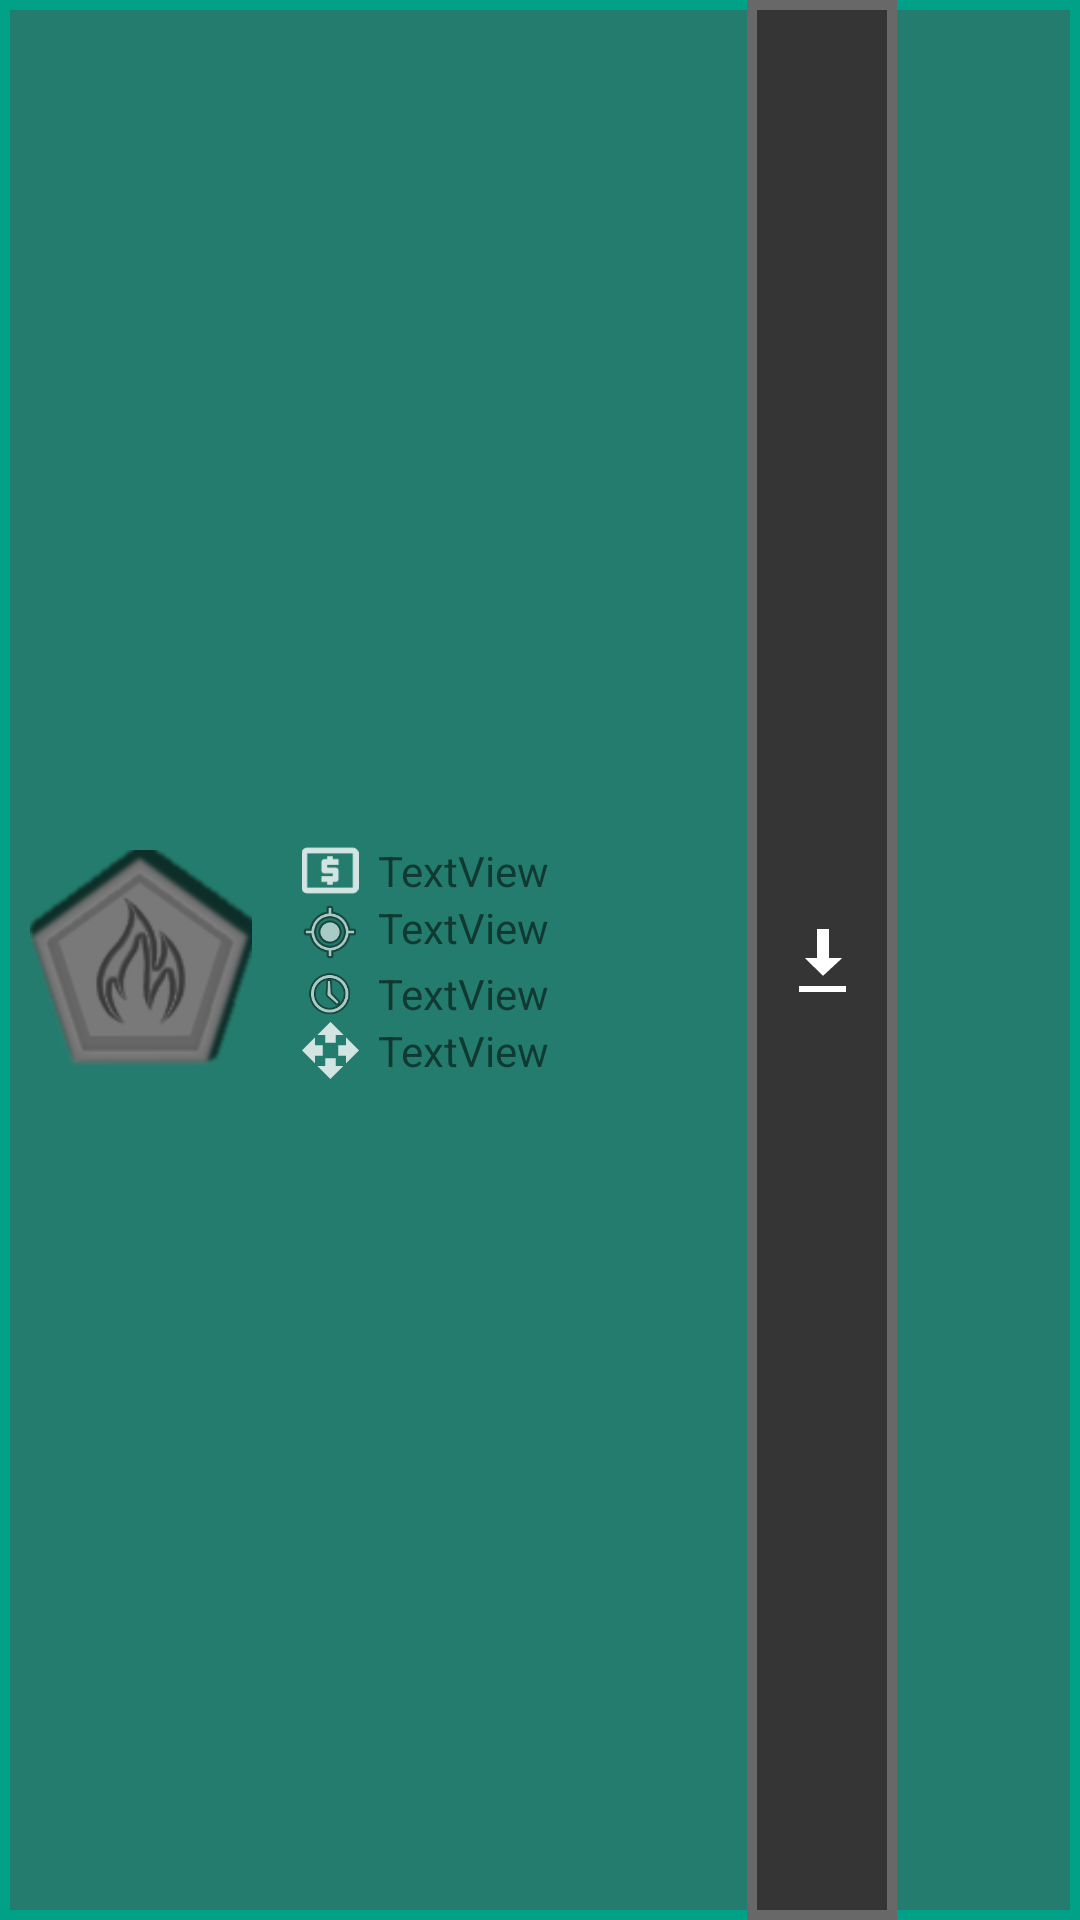

Screen size 1080 × 1920. Icon name, then its center in pixels as (x=x, y=y):
fire: (x=141, y=957)
mylocation: (x=330, y=932)
recent history: (x=329, y=993)
